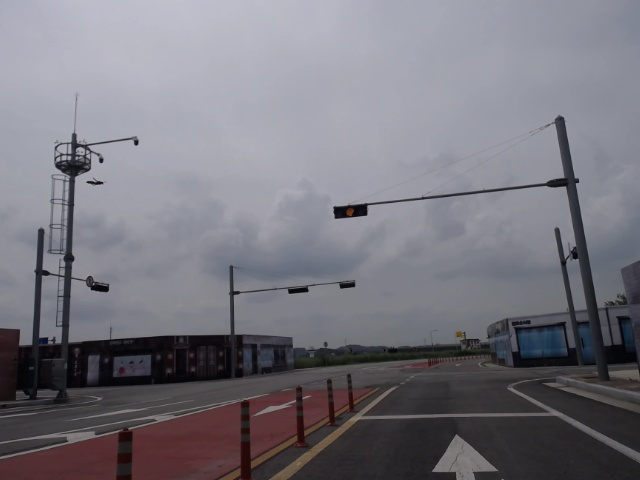orange_3: (334, 204, 367, 219)
